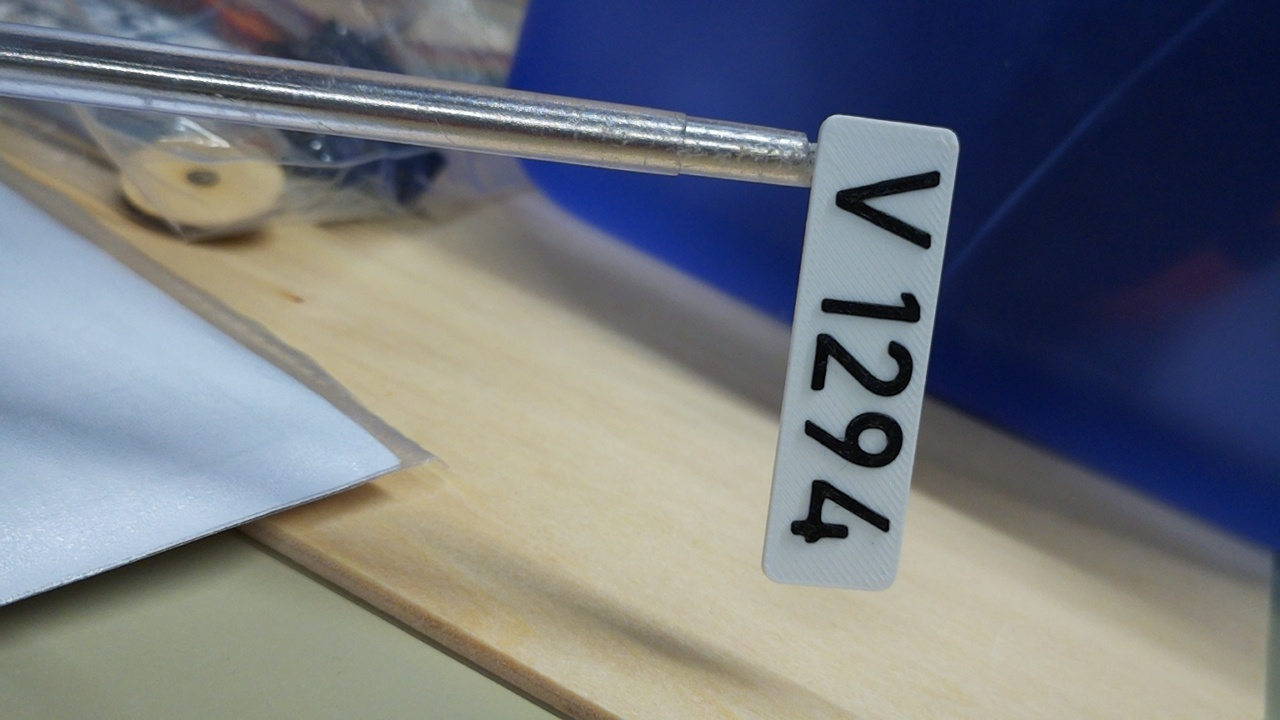license_plate: (757, 113, 962, 599)
